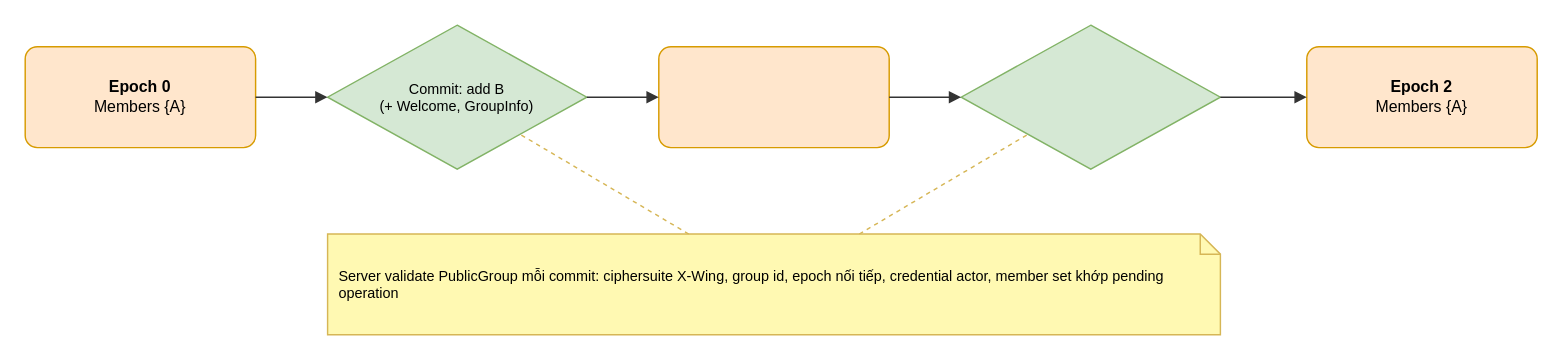
Some shapes in this 1562 by 360 pixel diagram are drawn without their labels. The centre of each missing label's shape, as x and y in pixels:
Commit: remove B (GroupInfo): [1090,96]
Epoch 1 Members {A, B}: [773,96]
